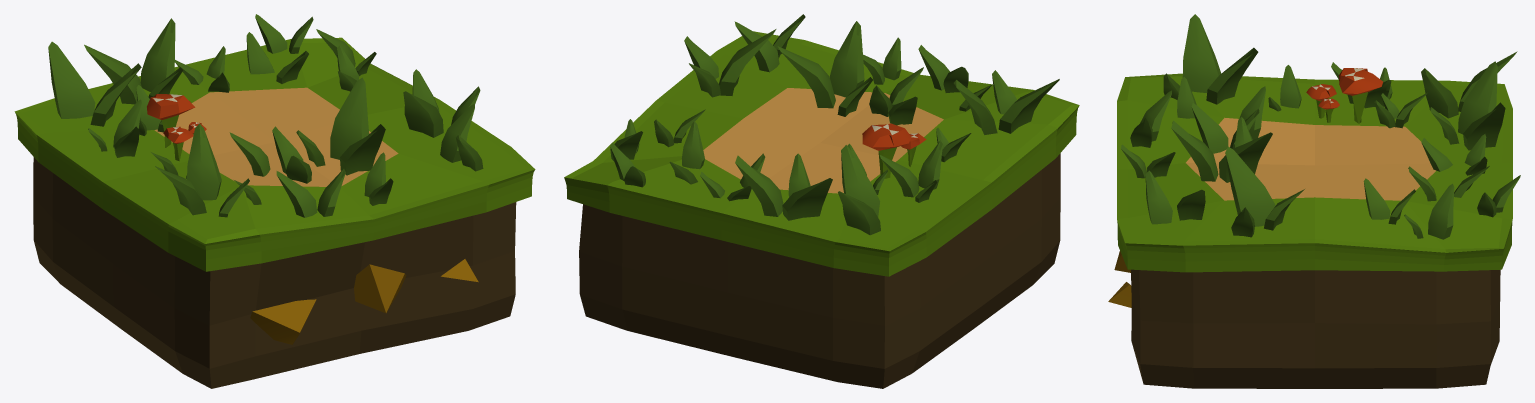
Rendered from AnyTile_Simple.fbx.
3 views of the same model, side by side, from view 1: azimuth 30°, elevation 25°; view 2: azimuth 150°, elevation 25°; view 3: azimuth 270°, elevation 25° (orthographic).
Parts seen in each view (by area): view 1: DefaultGreenTile.001, Grass.001, Rocks.001, Mushrooms; view 2: DefaultGreenTile.001, Grass.001, Mushrooms; view 3: DefaultGreenTile.001, Grass.001, Mushrooms, Rocks.001.
Part boxes in pixels (x1=…): DefaultGreenTile.001: x1=14, y1=37, x2=535, y2=388; Grass.001: x1=48, y1=14, x2=483, y2=217; Rocks.001: x1=250, y1=259, x2=478, y2=344; Mushrooms: x1=147, y1=94, x2=206, y2=161; DefaultGreenTile.001: x1=564, y1=31, x2=1079, y2=388; Grass.001: x1=610, y1=14, x2=1059, y2=235; Mushrooms: x1=862, y1=123, x2=926, y2=178; DefaultGreenTile.001: x1=1117, y1=73, x2=1512, y2=388; Grass.001: x1=1121, y1=14, x2=1520, y2=239; Mushrooms: x1=1306, y1=68, x2=1382, y2=123; Rocks.001: x1=1108, y1=251, x2=1131, y2=307.
Size of the model in its own units: 19.87 by 20.39 by 12.05.
